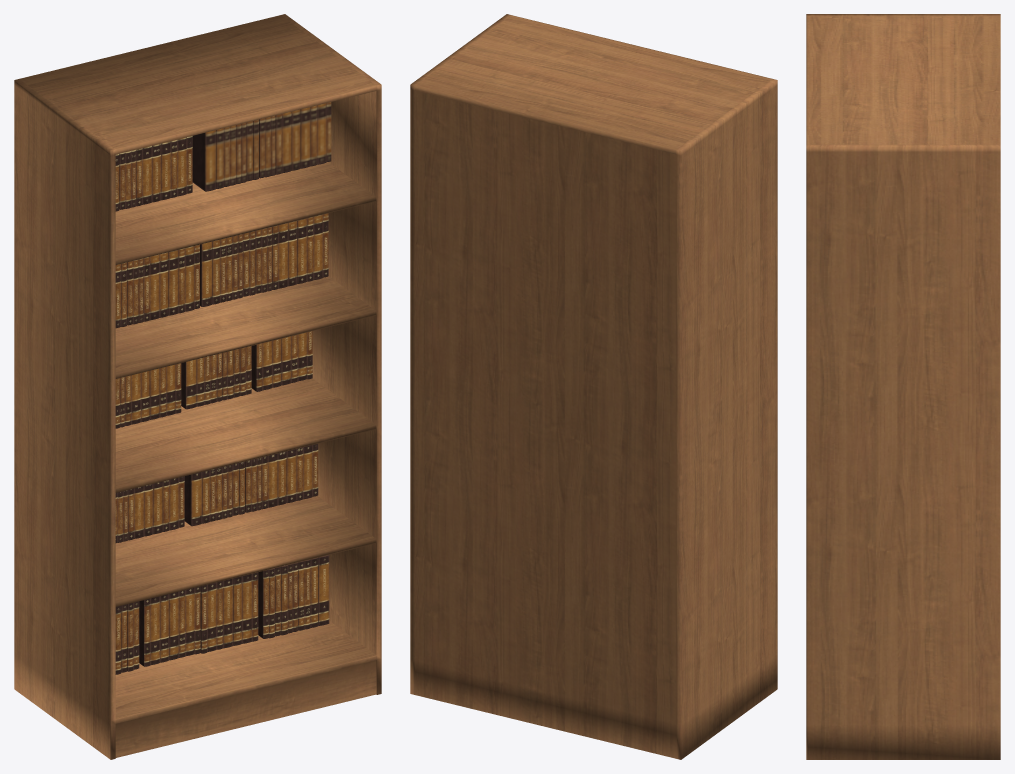
File: bookshelf.glb
3 views of the same model, side by side, from view 1: azimuth 30°, elevation 25°; view 2: azimuth 150°, elevation 25°; view 3: azimuth 270°, elevation 25° (orthographic).
Visible parts, largest first — view 1: Wall Book Shelf, book_encyclopedia_set_01_book01.009, book_encyclopedia_set_01_book01.004, book_encyclopedia_set_01_book01.003, book_encyclopedia_set_01_book01.007, book_encyclopedia_set_01_book12.002, book_encyclopedia_set_01_book01.001, book_encyclopedia_set_01_book13.003, book_encyclopedia_set_01_book10.003, book_encyclopedia_set_01_book15.006, book_encyclopedia_set_01_book15.003, book_encyclopedia_set_01_book14.003 (+12 smaller); view 2: Wall Book Shelf; view 3: Wall Book Shelf.
Part boxes in pixels (x1=…): Wall Book Shelf: x1=14, y1=14, x2=381, y2=759; book_encyclopedia_set_01_book01.009: x1=192, y1=130, x2=215, y2=191; book_encyclopedia_set_01_book01.004: x1=184, y1=472, x2=201, y2=526; book_encyclopedia_set_01_book01.003: x1=318, y1=555, x2=329, y2=625; book_encyclopedia_set_01_book01.007: x1=200, y1=241, x2=212, y2=306; book_encyclopedia_set_01_book12.002: x1=139, y1=598, x2=150, y2=666; book_encyclopedia_set_01_book01.001: x1=181, y1=359, x2=196, y2=409; book_encyclopedia_set_01_book13.003: x1=242, y1=574, x2=252, y2=643; book_encyclopedia_set_01_book10.003: x1=258, y1=569, x2=268, y2=638; book_encyclopedia_set_01_book15.006: x1=168, y1=250, x2=178, y2=315; book_encyclopedia_set_01_book15.003: x1=223, y1=578, x2=232, y2=648; book_encyclopedia_set_01_book14.003: x1=233, y1=576, x2=242, y2=645; Wall Book Shelf: x1=410, y1=14, x2=777, y2=759; Wall Book Shelf: x1=806, y1=14, x2=1000, y2=759.
Bounding box in the file's own units: 0.979 × 2.1 × 0.6046.
21 materials, 21 textured.
